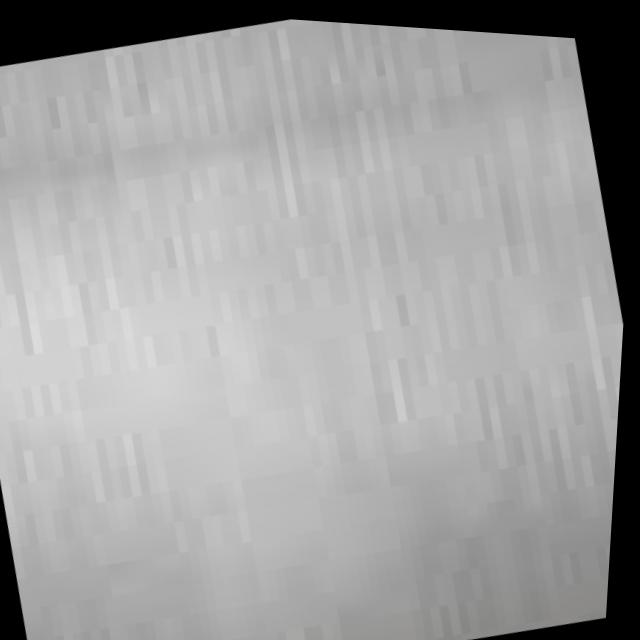metal-plates: (1, 16, 628, 640)
